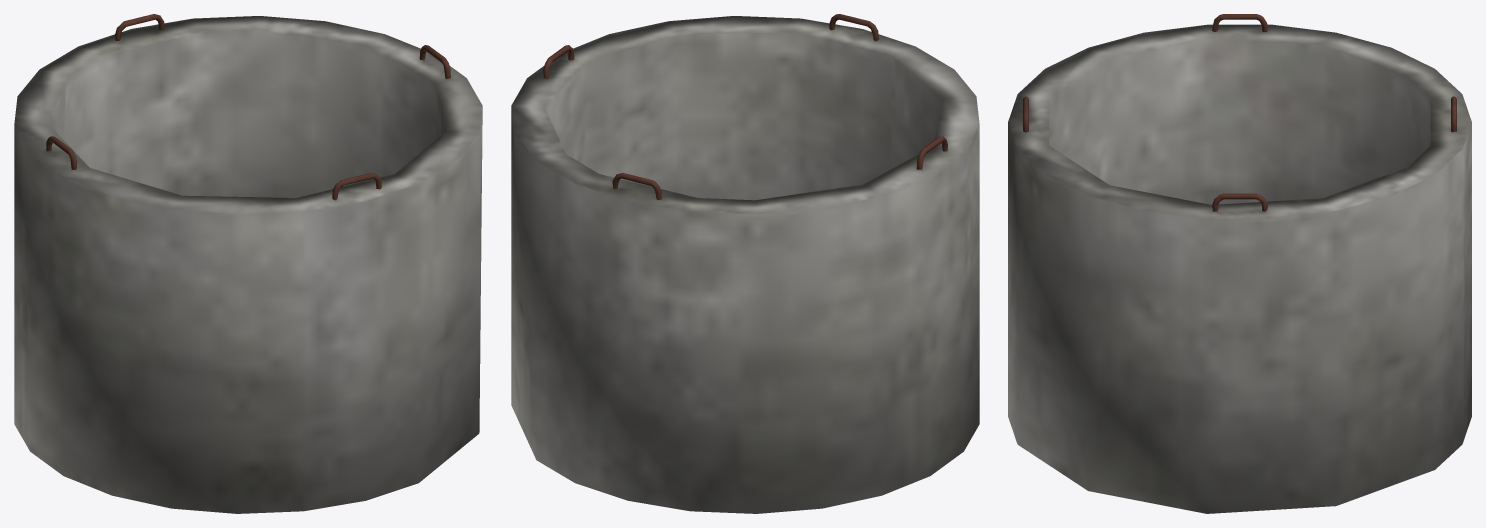
The model's file is con-pipe.lod1.glb.
3 views of the same model, side by side, from view 1: azimuth 30°, elevation 25°; view 2: azimuth 150°, elevation 25°; view 3: azimuth 270°, elevation 25° (orthographic).
Visible parts, largest first — view 1: Concrete_Pipe1_Concrete_Pipe1_0, Concrete_Pipe1_Metal_Parts1_0; view 2: Concrete_Pipe1_Concrete_Pipe1_0, Concrete_Pipe1_Metal_Parts1_0; view 3: Concrete_Pipe1_Concrete_Pipe1_0, Concrete_Pipe1_Metal_Parts1_0.
Part boxes in pixels (x1,y1,x2,y2): Concrete_Pipe1_Concrete_Pipe1_0: [14, 16, 482, 513]; Concrete_Pipe1_Metal_Parts1_0: [46, 14, 450, 200]; Concrete_Pipe1_Concrete_Pipe1_0: [511, 16, 979, 513]; Concrete_Pipe1_Metal_Parts1_0: [543, 14, 947, 199]; Concrete_Pipe1_Concrete_Pipe1_0: [1008, 24, 1471, 513]; Concrete_Pipe1_Metal_Parts1_0: [1023, 14, 1456, 211].
Size of the model in its own units: 2.18 by 1.64 by 2.2.
2 materials, 2 textured.
